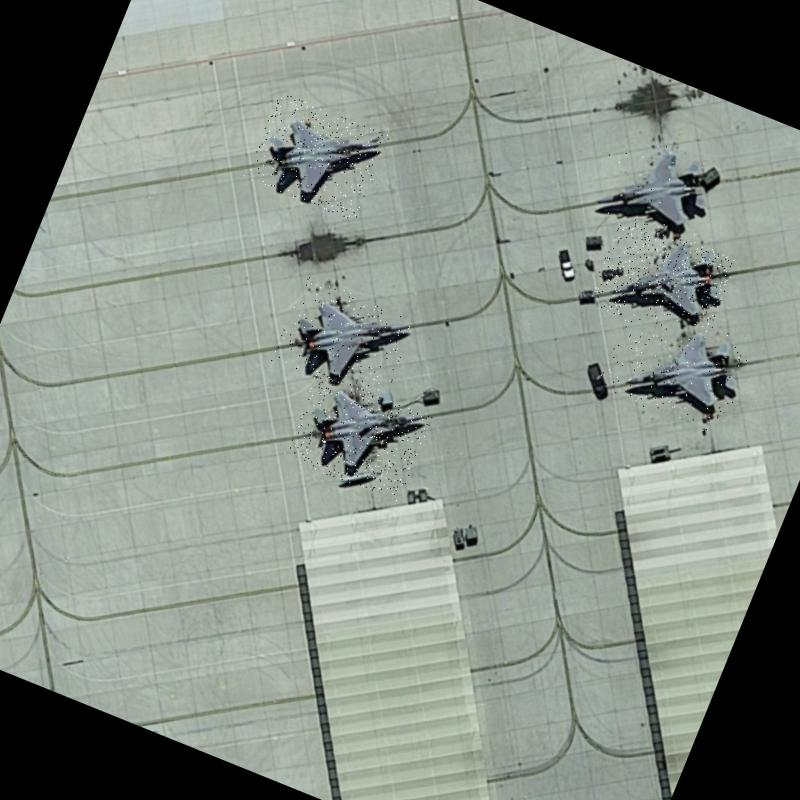A13: (593, 294, 756, 437), (586, 213, 738, 350), (282, 370, 432, 504), (242, 90, 390, 222), (270, 274, 417, 406), (585, 123, 728, 250)
